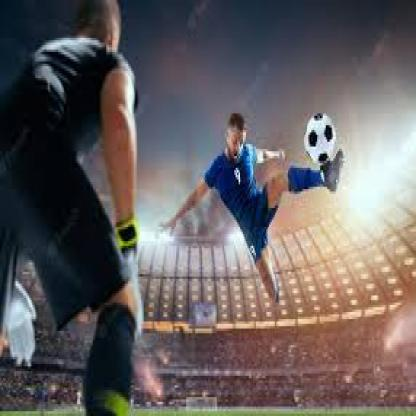ball: (305, 112, 336, 167), (306, 112, 336, 167)
